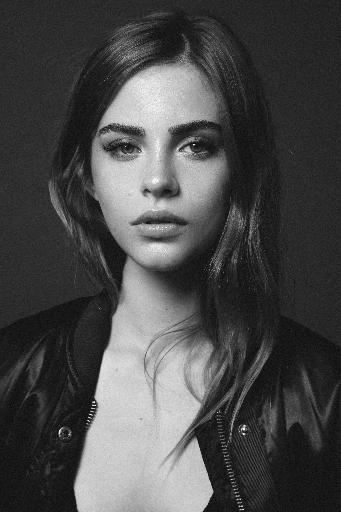left_eye: (179, 138, 220, 163)
left_lip_corner: (182, 214, 195, 236)
right_eye: (104, 140, 143, 164)
right_lip_corner: (129, 215, 142, 236)
